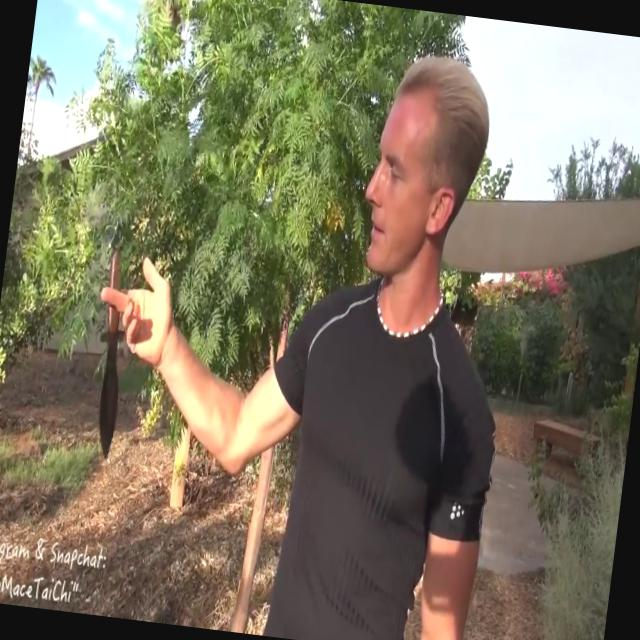knife: (70, 198, 152, 474)
